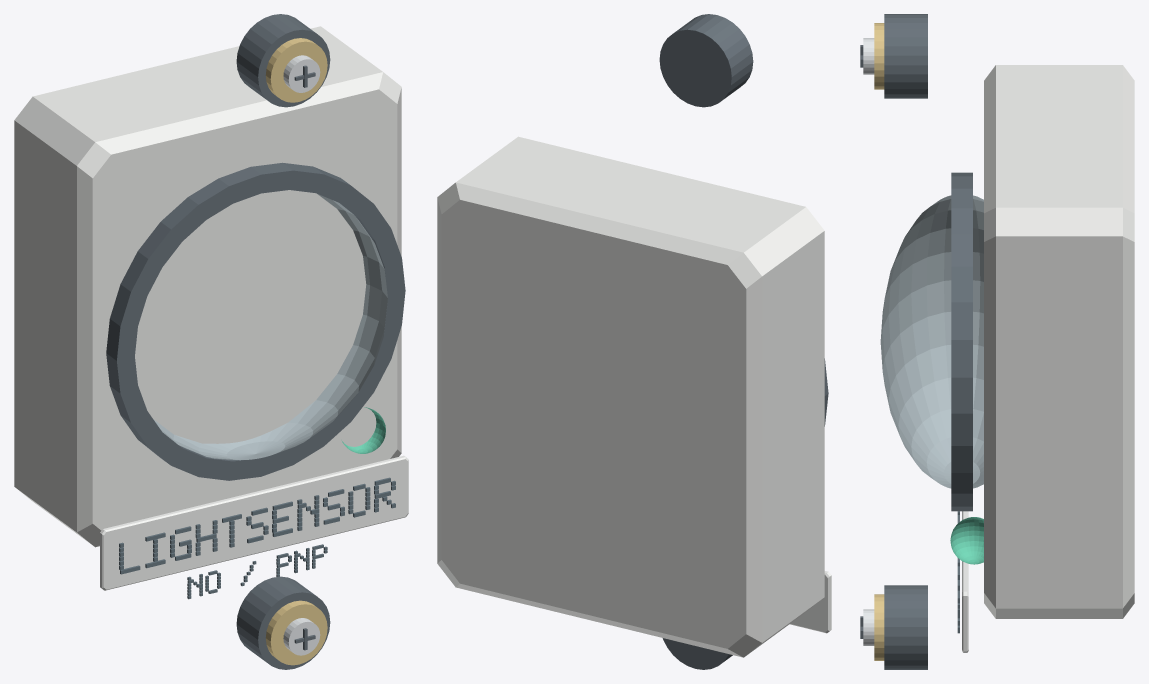
Rendered from lightSensor.glb.
3 renders of one model, left to right at view 1: azimuth 30°, elevation 25°; view 2: azimuth 150°, elevation 25°; view 3: azimuth 270°, elevation 25°, orthographic.
Visible parts, largest first — view 1: lightSensor-detailed; view 2: lightSensor-detailed; view 3: lightSensor-detailed.
Boxes of the visible parts, <box> form: lightSensor-detailed: <box>14,14,408,669</box>; lightSensor-detailed: <box>437,14,831,669</box>; lightSensor-detailed: <box>860,14,1134,669</box>.
Size of the model in its own units: 1.41 by 2.65 by 1.02.
